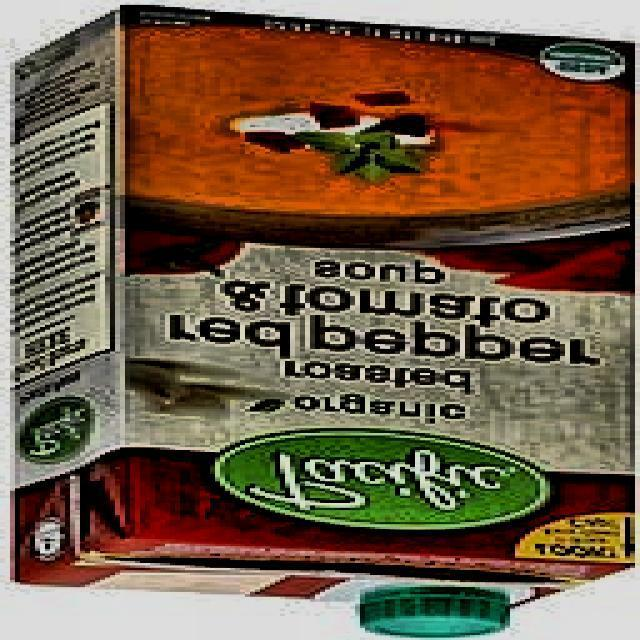cardboard: (5, 7, 635, 616)
